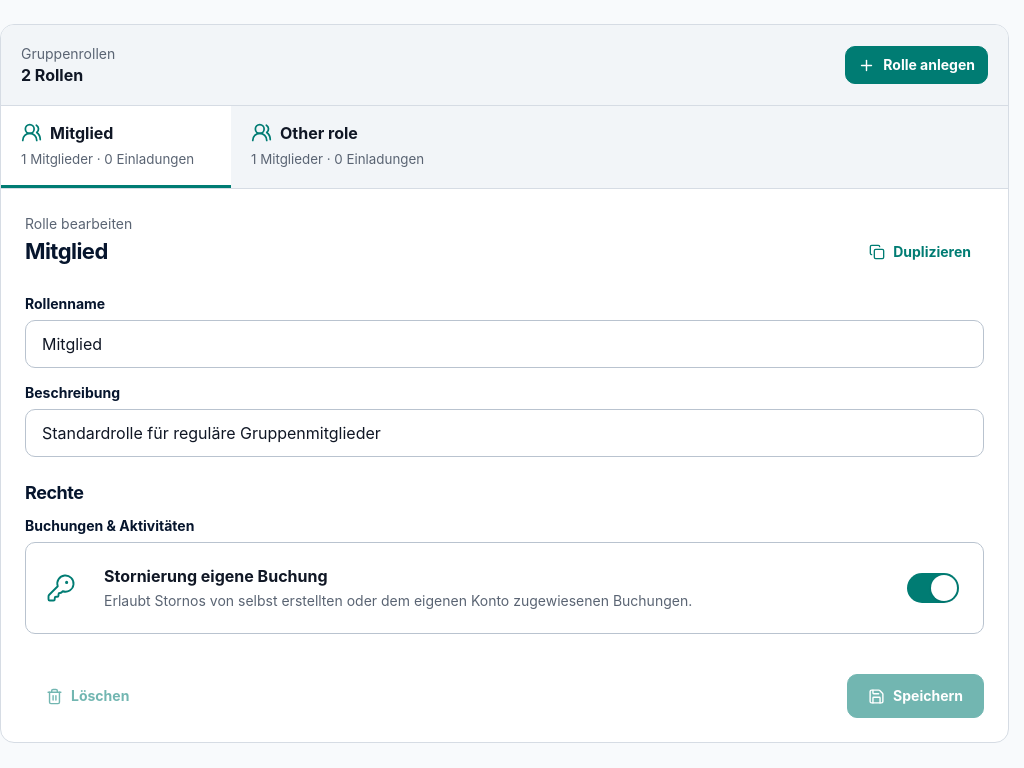
RightsPanel role definitions › asks before discarding an edited role when selecting another role
This screenshot has width=1024, height=768.
Type " revised" into the field labelled "Rollenname" at coordinates (504, 344), box [25, 320, 984, 368]
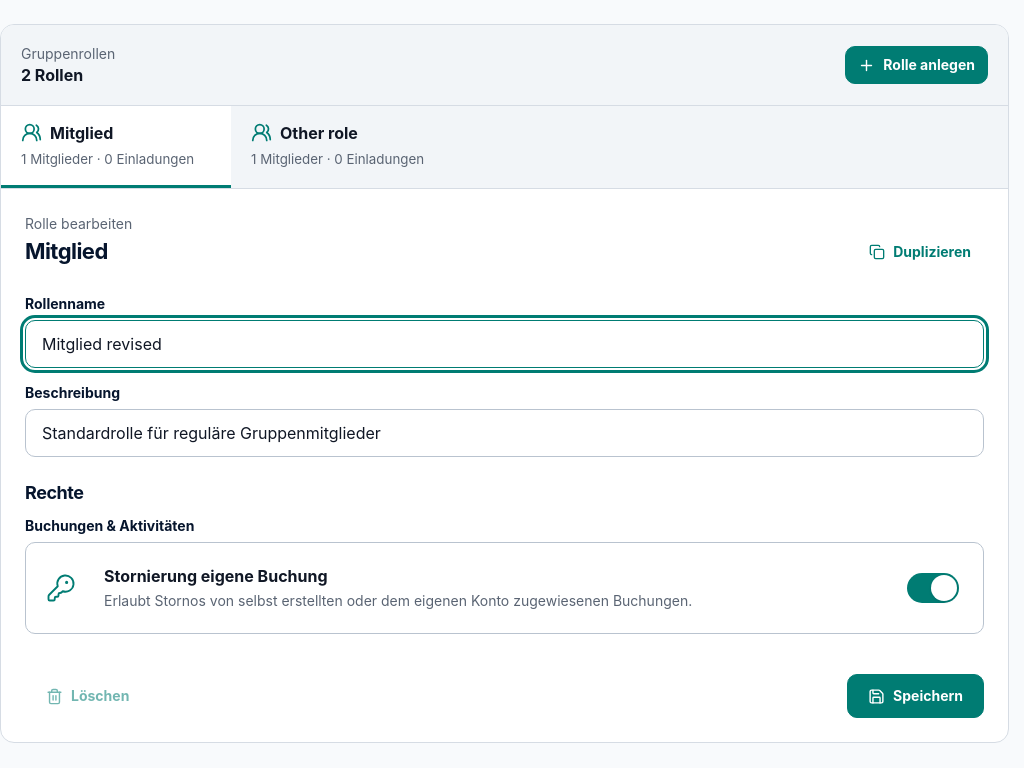
Click the button "Other role 1 Mitglieder · 0 Einladungen" at coordinates (346, 147), box [231, 106, 461, 188]
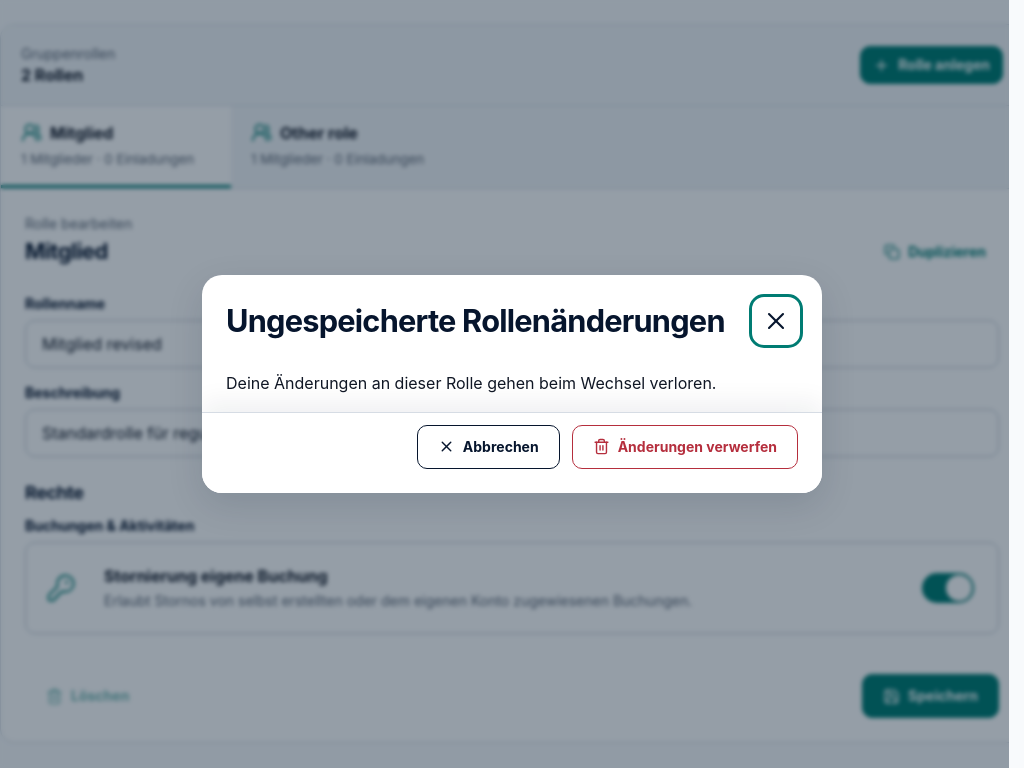
Check: the field labelled "Rollenname" holds "Mitglied revised", box [25, 320, 999, 368]
Check: the dialog "Ungespeicherte Rollenänderungen" is shown, box [202, 275, 822, 493]
Click the button "Abbrechen" at coordinates (488, 447), box [417, 425, 560, 469]
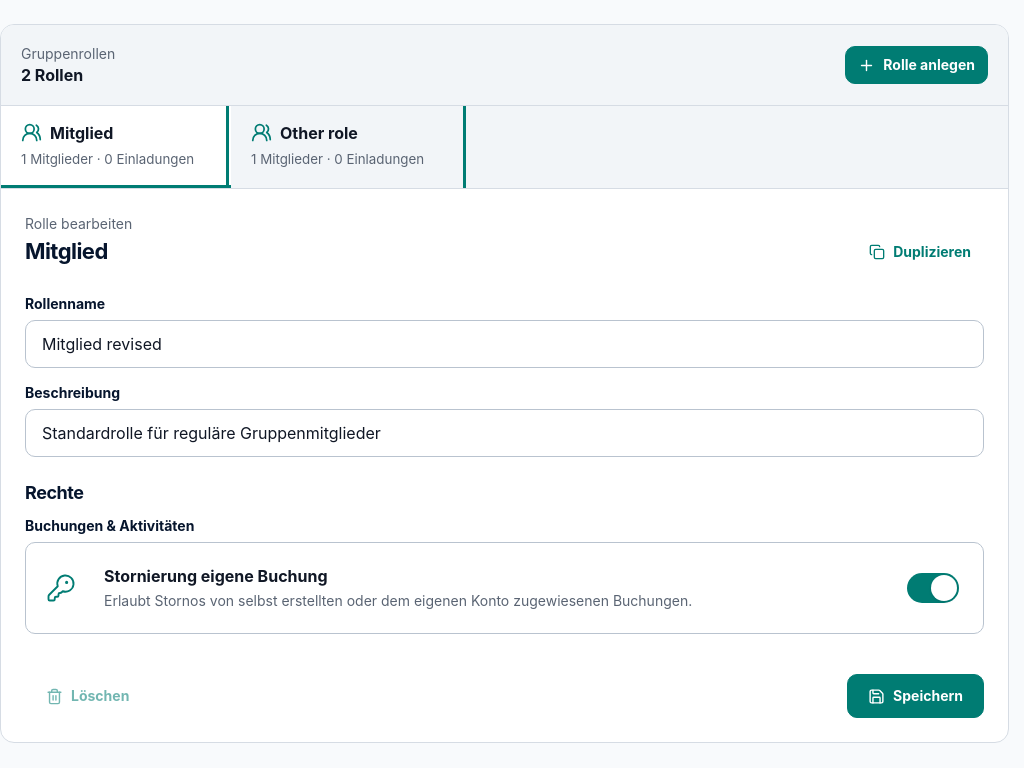
Check: the field labelled "Rollenname" holds "Mitglied revised", box [25, 320, 984, 368]
Click the button "Other role 1 Mitglieder · 0 Einladungen" at coordinates (346, 147), box [231, 106, 461, 188]
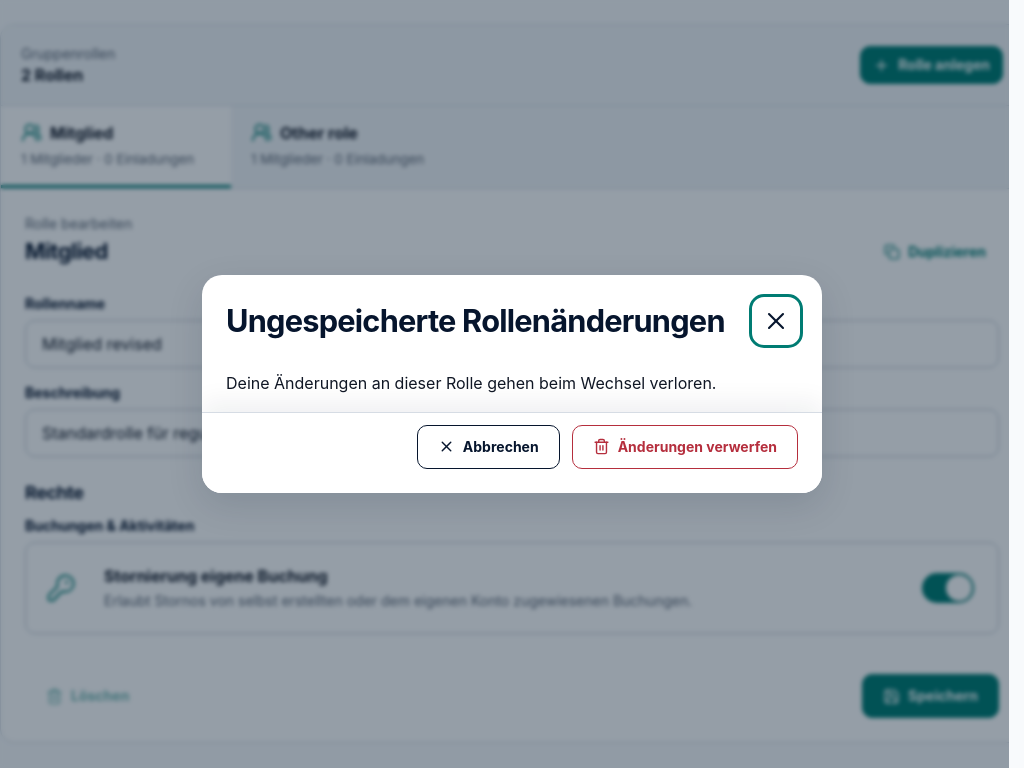
Click the button "Änderungen verwerfen" at coordinates (685, 447), box [572, 425, 798, 469]
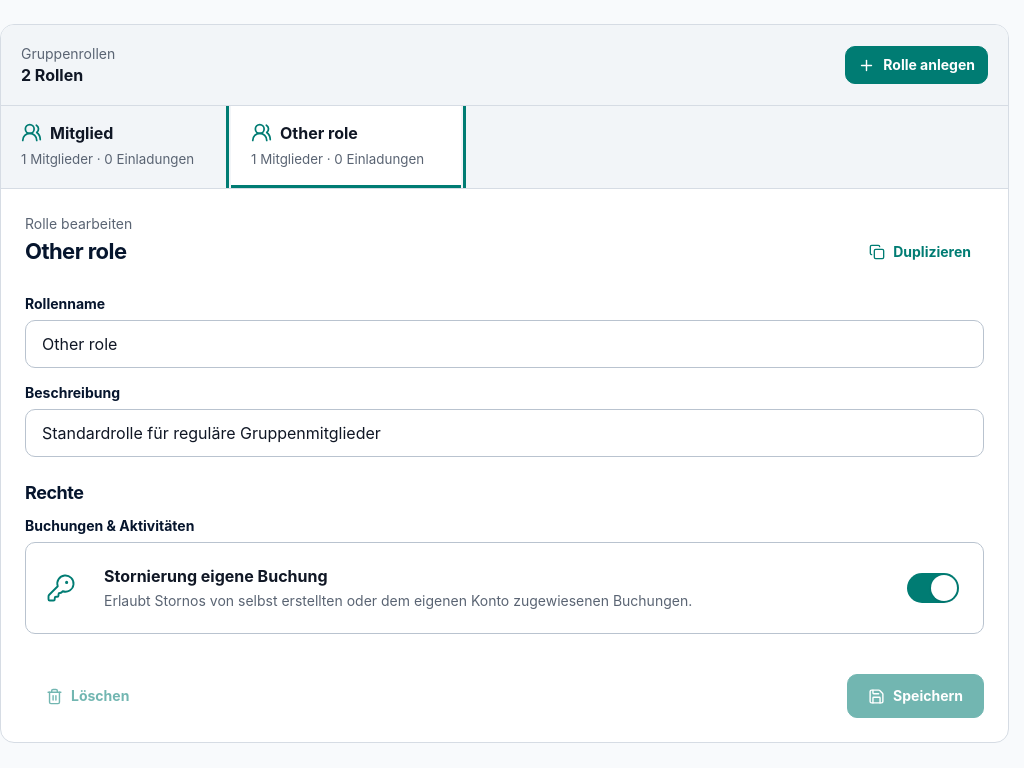
Check: the field labelled "Rollenname" holds "Other role", box [25, 320, 984, 368]
